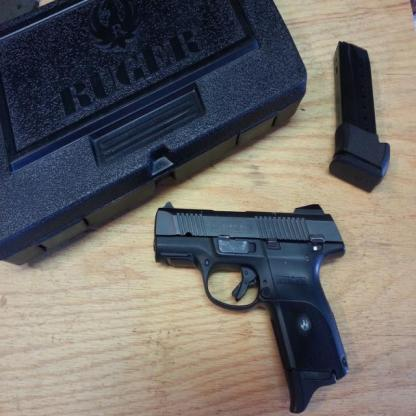weapon: (152, 203, 350, 416)
